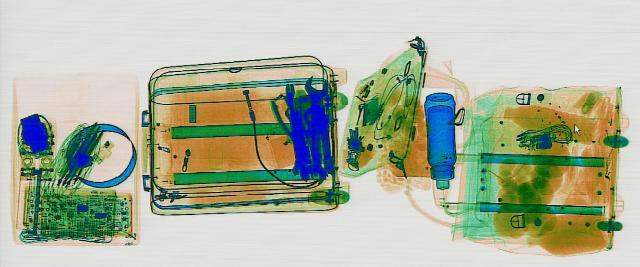Wrench: (302, 75, 330, 131)
